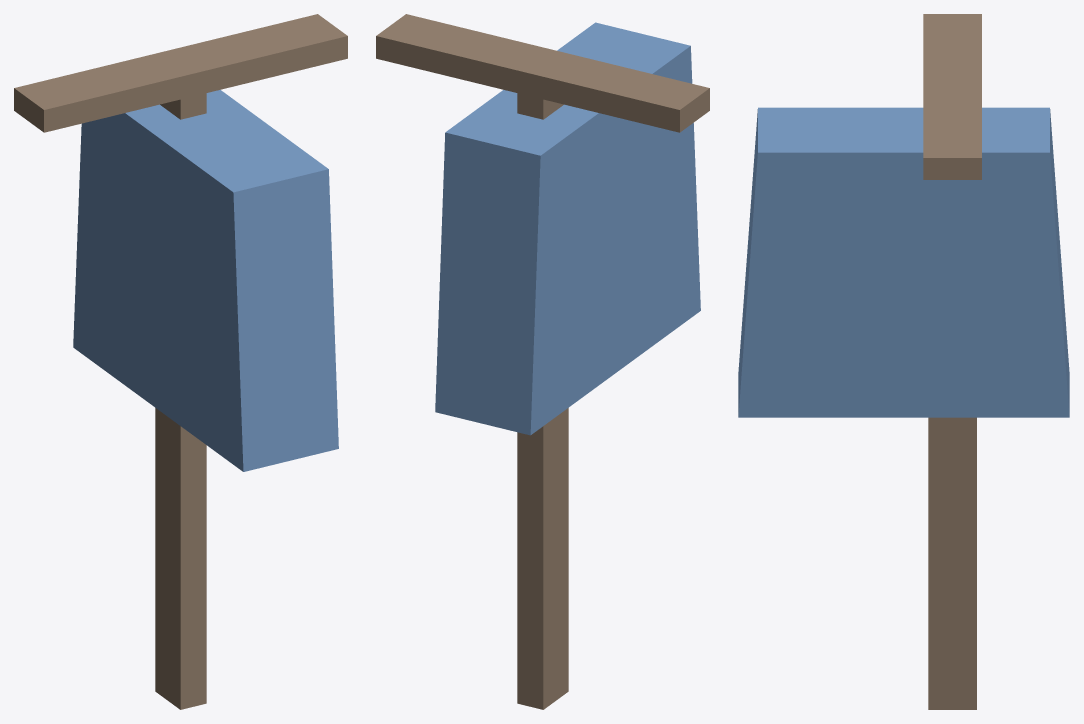
File: rug-rail.glb
3 renders of one model, left to right at view 1: azimuth 30°, elevation 25°; view 2: azimuth 150°, elevation 25°; view 3: azimuth 270°, elevation 25°, orthographic. The views are drawn at different scales.
Parts seen in each view (by area): view 1: rug-rail; view 2: rug-rail; view 3: rug-rail.
Boxes of the visible parts, x1,y1,x2,y2 form: rug-rail: (14, 14, 347, 709); rug-rail: (376, 14, 709, 709); rug-rail: (738, 14, 1069, 709).
Size of the model in its own units: 0.7001 by 1.4 by 0.68.
